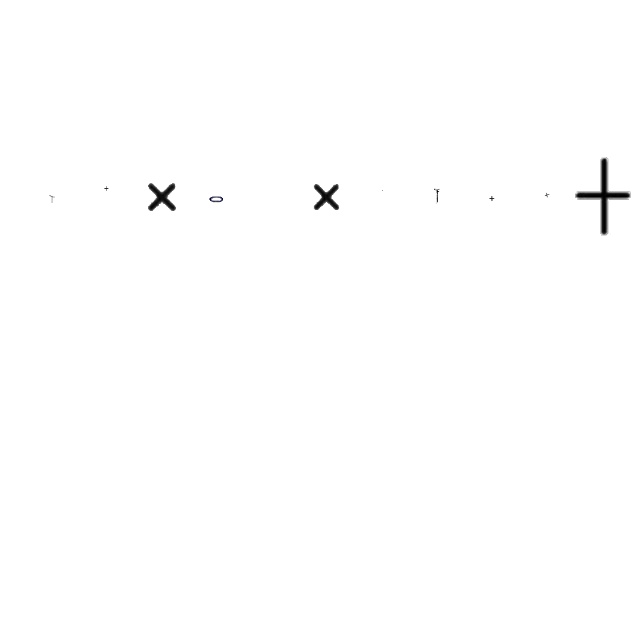chain: (208, 193, 226, 205), (381, 190, 383, 192)
double: (571, 157, 633, 237), (145, 178, 179, 214), (312, 179, 342, 213), (104, 186, 110, 192), (489, 196, 495, 202), (544, 192, 550, 198)
double treble: (434, 188, 440, 204)
enseble_chain: (49, 195, 55, 203)
